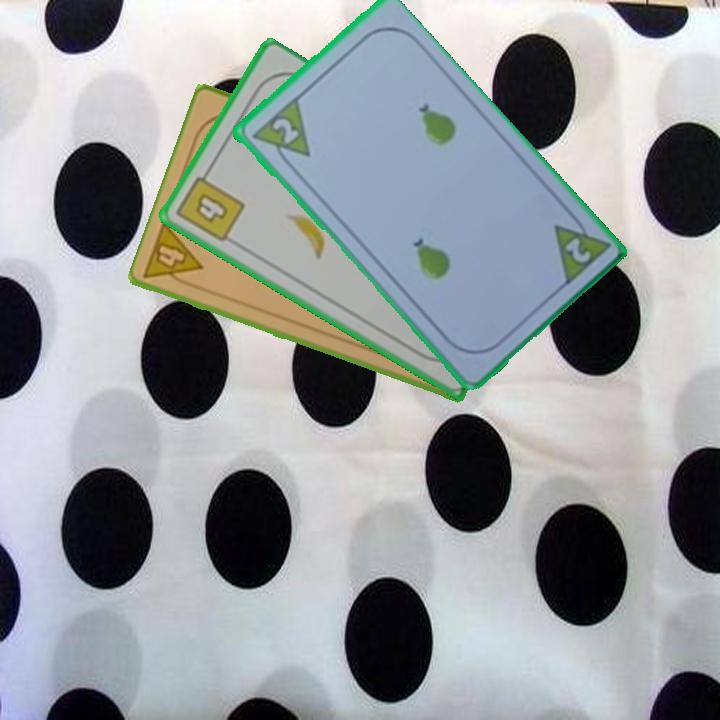2p: (246, 94, 313, 173), (560, 233, 594, 267)
4b: (172, 164, 248, 245)
4p: (140, 218, 206, 293)
